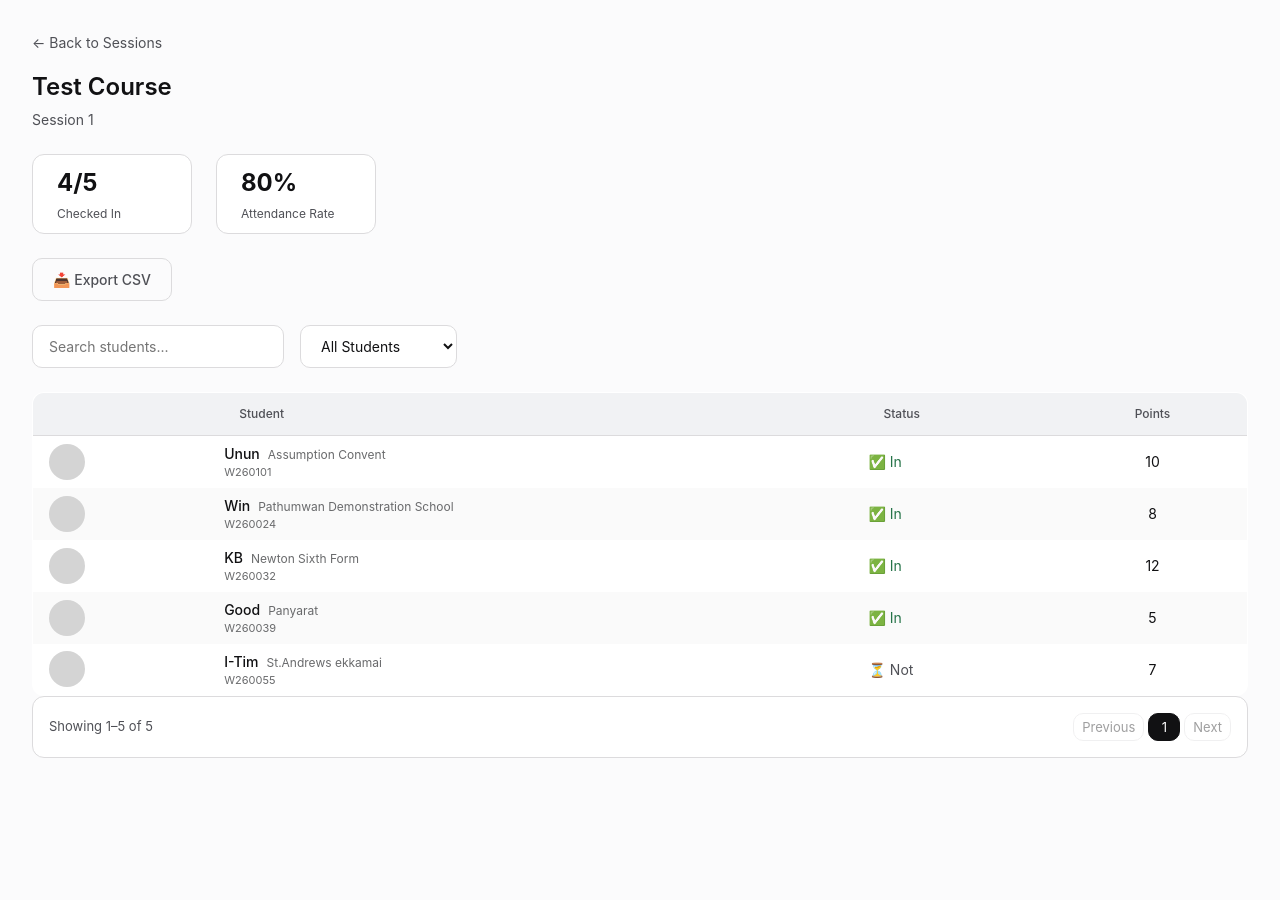
Test: CheckinDetail search › filters students by student_id (wcode)
The width and height of the screenshot is (1280, 900).
Type "W260032" into the field with placeholder "Search students..." at (158, 346), box [32,325,284,368]
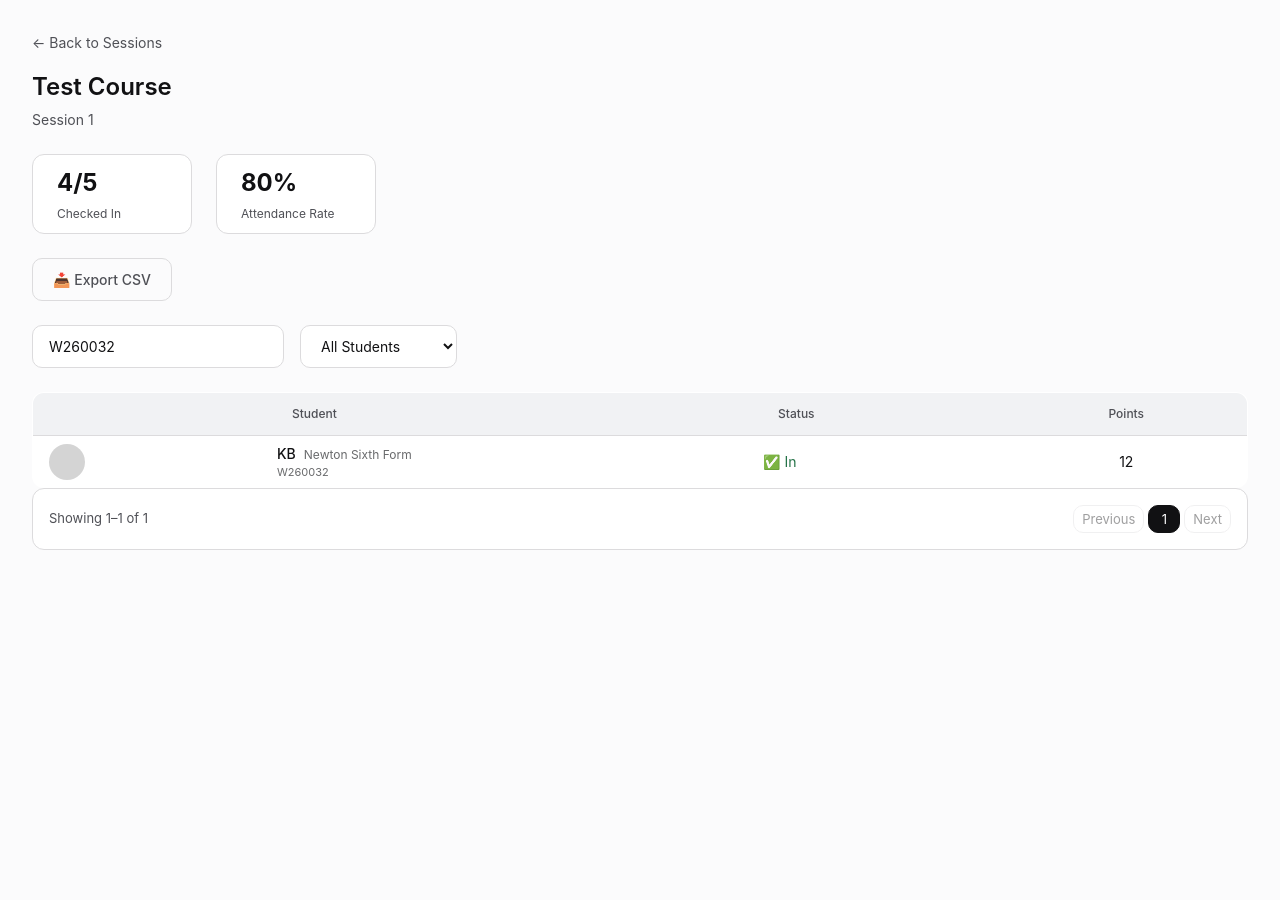
Expected: the text "Unun" is gone
Expected: the text "Good" is gone
Expected: the text "I-Tim" is gone
